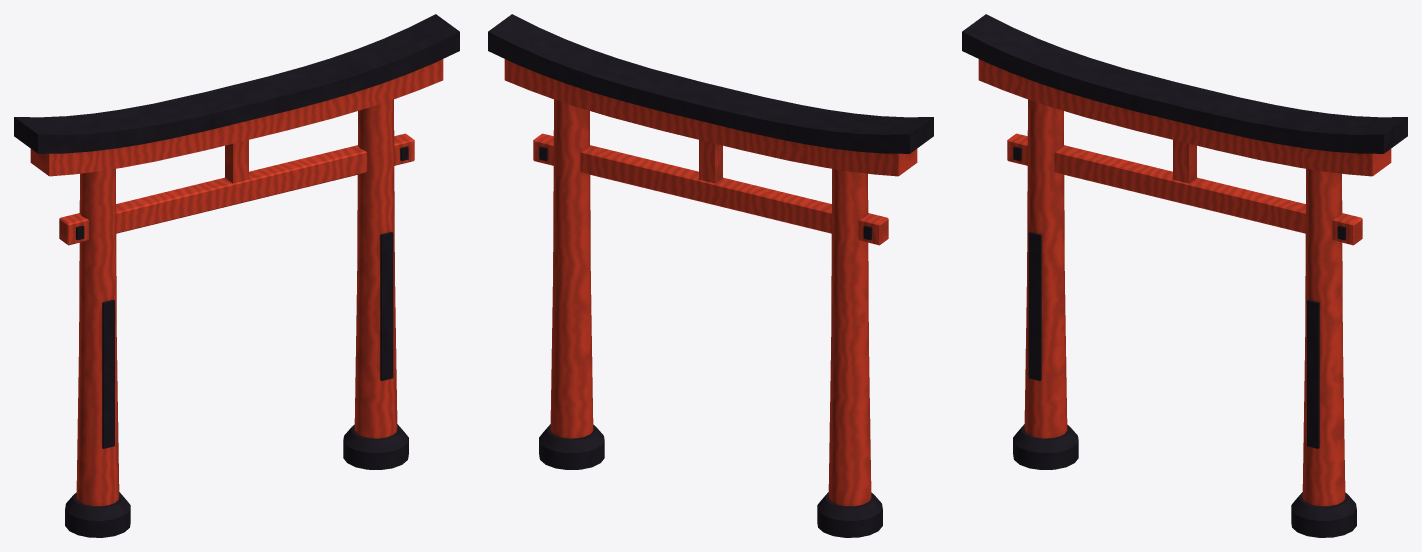
The model's file is senbon_torii.fbx.
3 views of the same model, side by side, from view 1: azimuth 30°, elevation 25°; view 2: azimuth 150°, elevation 25°; view 3: azimuth 330°, elevation 25° (orthographic).
Visible parts, largest first — view 1: senbon_torii; view 2: senbon_torii; view 3: senbon_torii.
Part boxes in pixels (bbox=[...]): senbon_torii: bbox=[14, 14, 459, 537]; senbon_torii: bbox=[488, 14, 933, 537]; senbon_torii: bbox=[962, 14, 1407, 537].
Size of the model in its own units: 1056 by 995 by 144.
1 material, 1 textured.
